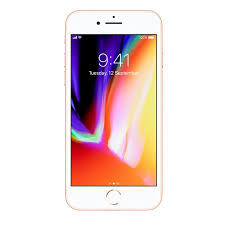iphone: (59, 6, 164, 213)
iphone8: (61, 8, 162, 213)
